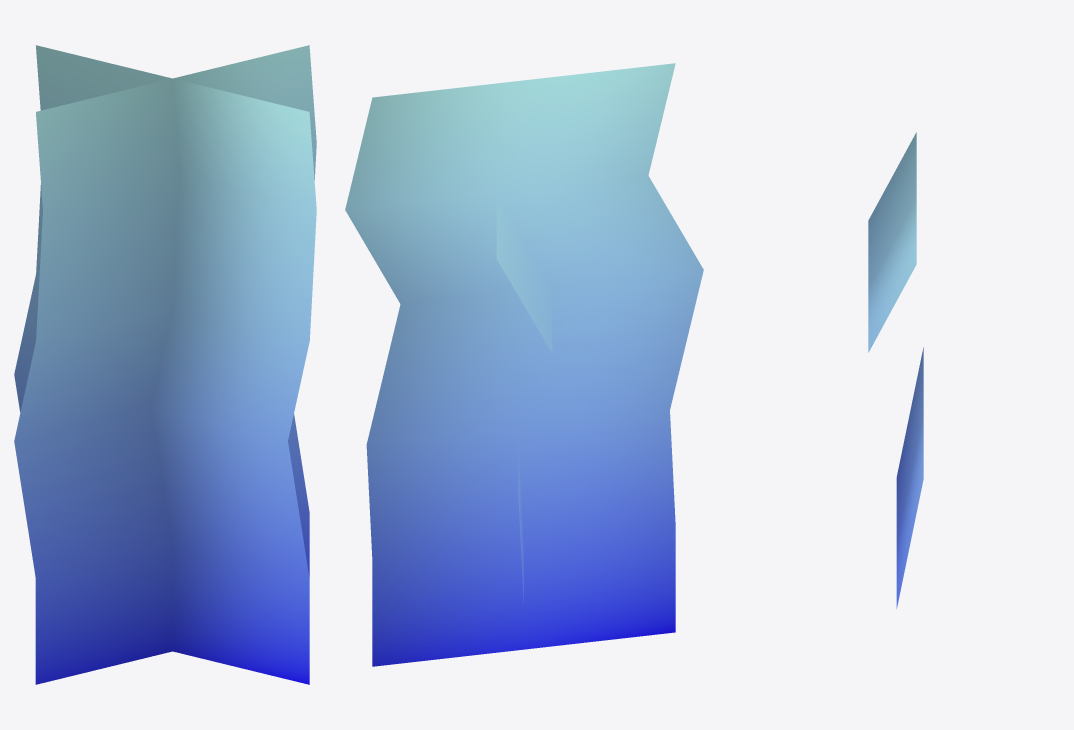
Rendered from SM_Env_Seaweed_01.glb.
The picture shows the model from 3 angles, left to right: view 1: azimuth 30°, elevation 25°; view 2: azimuth 150°, elevation 25°; view 3: azimuth 270°, elevation 25°; orthographic projection.
Visible parts, largest first — view 1: SM_Env_Seaweed_01_LOD0; view 2: SM_Env_Seaweed_01_LOD0; view 3: SM_Env_Seaweed_01_LOD0.
Boxes of the visible parts, x1,y1,x2,y2 form: SM_Env_Seaweed_01_LOD0: (14, 45, 316, 684); SM_Env_Seaweed_01_LOD0: (345, 63, 703, 666); SM_Env_Seaweed_01_LOD0: (868, 132, 923, 608).
Size of what is drawn, in the model's own units: 1.23 by 2.2 by 1.15.
